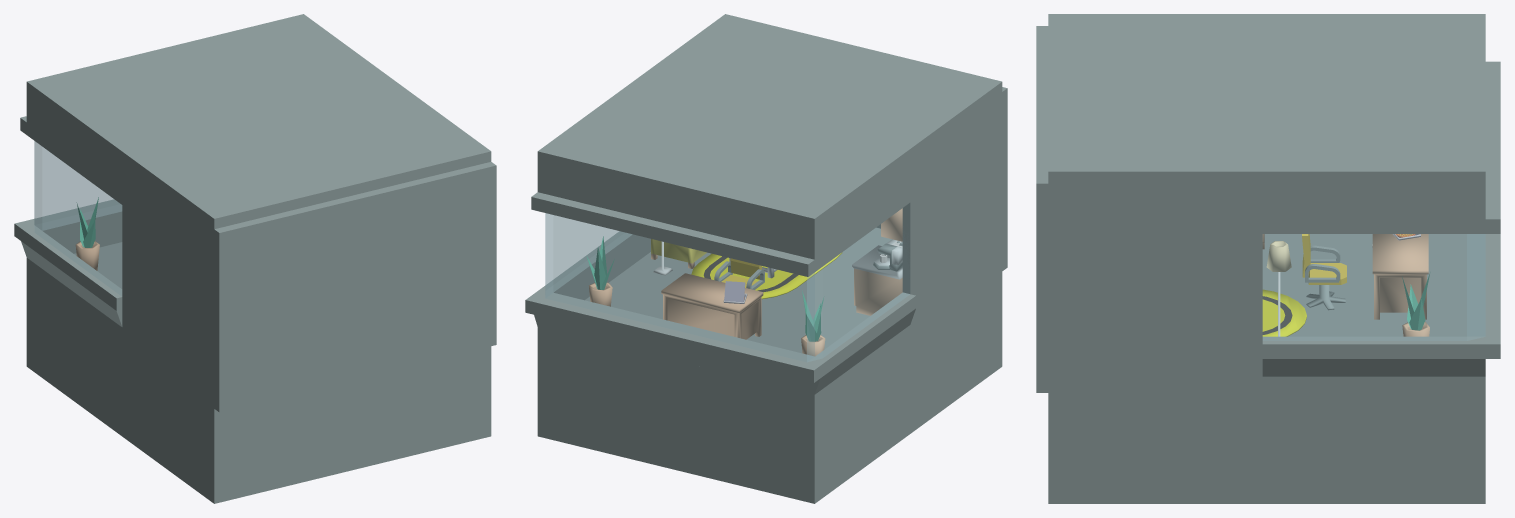
File: the_shop.glb
The picture shows the model from 3 angles, left to right: view 1: azimuth 30°, elevation 25°; view 2: azimuth 150°, elevation 25°; view 3: azimuth 270°, elevation 25°; orthographic projection. The views are drawn at different scales.
Parts seen in each view (by area): view 1: walls, back_wall, windows, pottedPlant; view 2: walls, windows, desk, kitchenCabinet, rugRounded, back_wall, pottedPlant.001, chairDesk, pottedPlant, loungeSofa, kitchenCoffeeMachine; view 3: walls, windows, back_wall, desk, chairDesk, rugRounded, pottedPlant.001, lampRoundFloor.
Part boxes in pixels (x1,y1,x2,y2): walls: [14, 14, 491, 503]; back_wall: [214, 162, 496, 412]; windows: [34, 141, 122, 295]; pottedPlant: [75, 197, 99, 270]; walls: [525, 14, 1002, 503]; windows: [545, 203, 909, 361]; desk: [661, 273, 763, 339]; kitchenCabinet: [852, 245, 902, 315]; rugRounded: [691, 252, 842, 299]; back_wall: [1002, 87, 1007, 270]; pottedPlant.001: [586, 236, 614, 306]; chairDesk: [714, 258, 764, 289]; pottedPlant: [801, 290, 825, 356]; loungeSofa: [651, 239, 706, 268]; kitchenCoffeeMachine: [872, 243, 902, 271]; walls: [1048, 14, 1500, 503]; windows: [1263, 234, 1485, 340]; back_wall: [1036, 26, 1048, 392]; desk: [1372, 234, 1428, 319]; chairDesk: [1302, 234, 1346, 310]; rugRounded: [1262, 289, 1306, 336]; pottedPlant.001: [1402, 272, 1430, 336]; lampRoundFloor: [1266, 241, 1291, 336].
Bounding box in the file's own units: 2.71 × 2.56 × 3.24.
42 materials, 2 textured.
